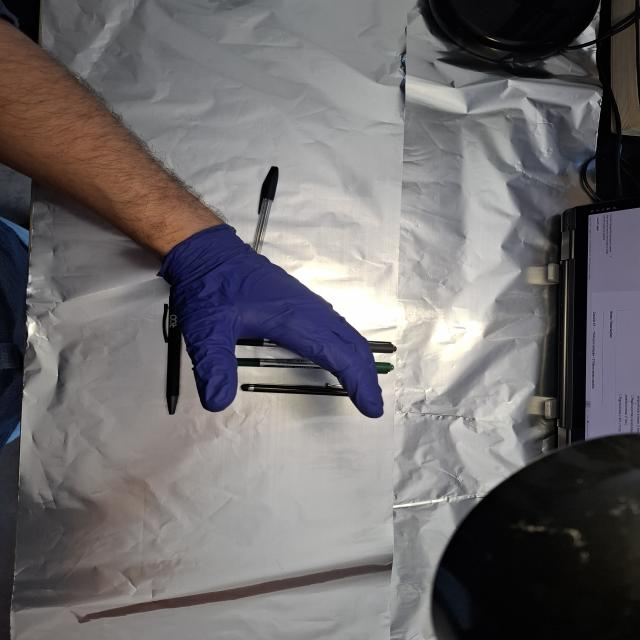glove_on: (157, 225, 388, 421)
